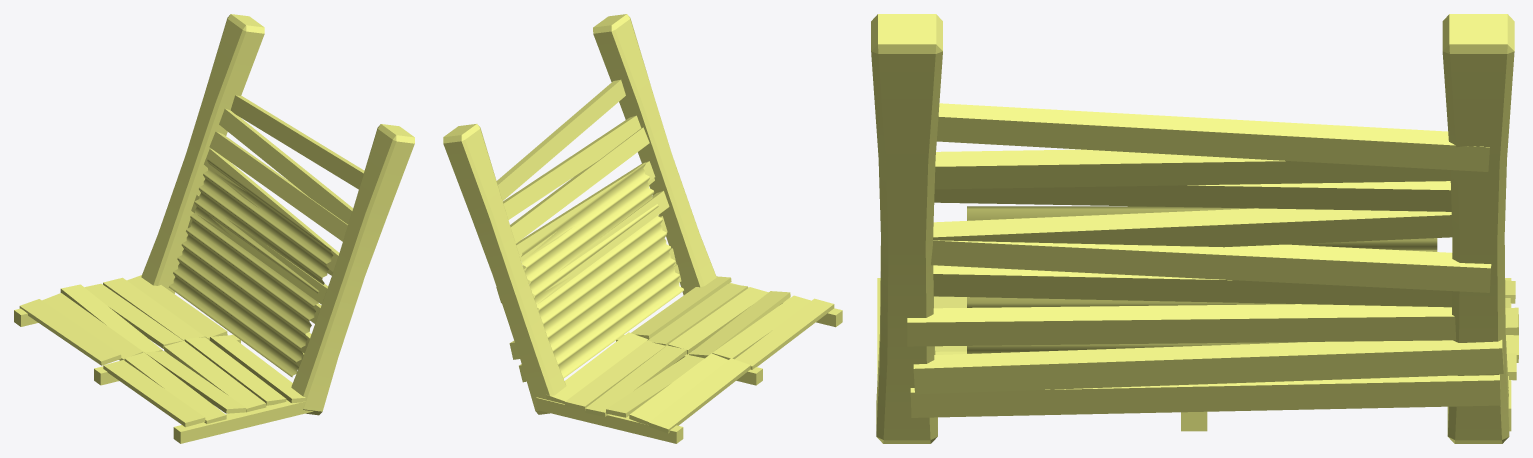
The model's file is Trench01oneSide.fbx.
The picture shows the model from 3 angles, left to right: view 1: azimuth 30°, elevation 25°; view 2: azimuth 150°, elevation 25°; view 3: azimuth 270°, elevation 25°; orthographic projection. The views are drawn at different scales.
Parts seen in each view (by area): view 1: Trench01.001; view 2: Trench01.001; view 3: Trench01.001.
Part boxes in pixels (x1,y1,x2,y2): Trench01.001: (14, 14, 414, 443); Trench01.001: (443, 14, 842, 443); Trench01.001: (871, 14, 1518, 443).
Bounding box in the file's own units: 205 × 220 × 258.
